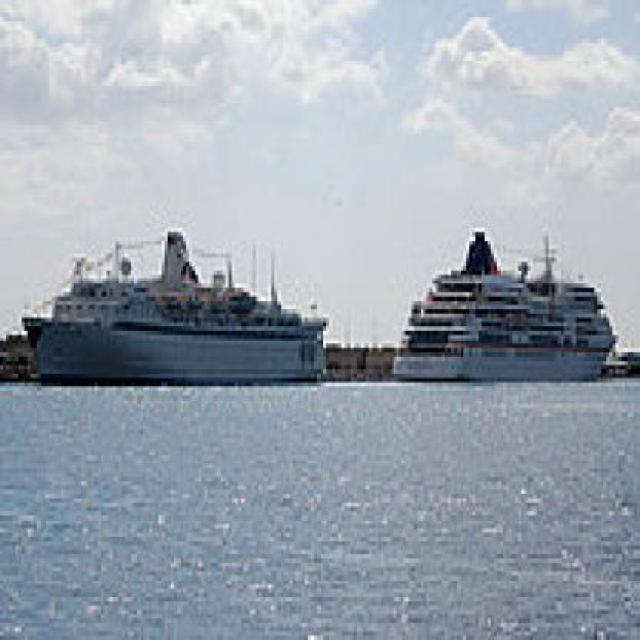cruise: (10, 216, 343, 405), (391, 220, 626, 397)
